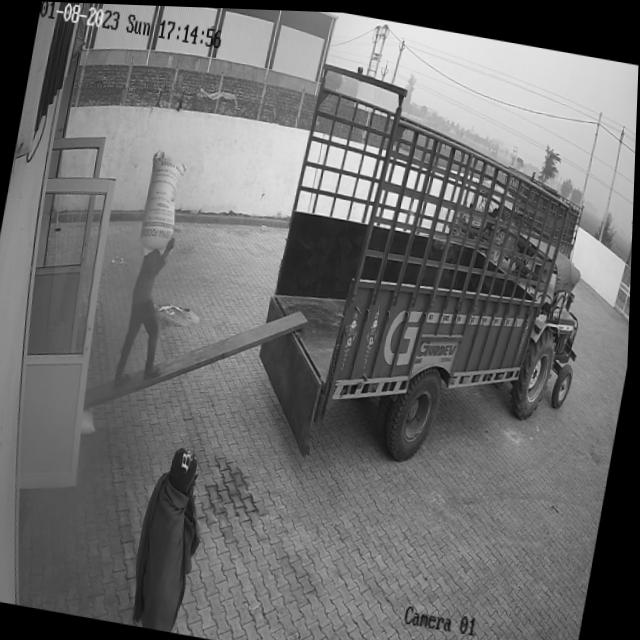sack: (138, 147, 190, 260)
